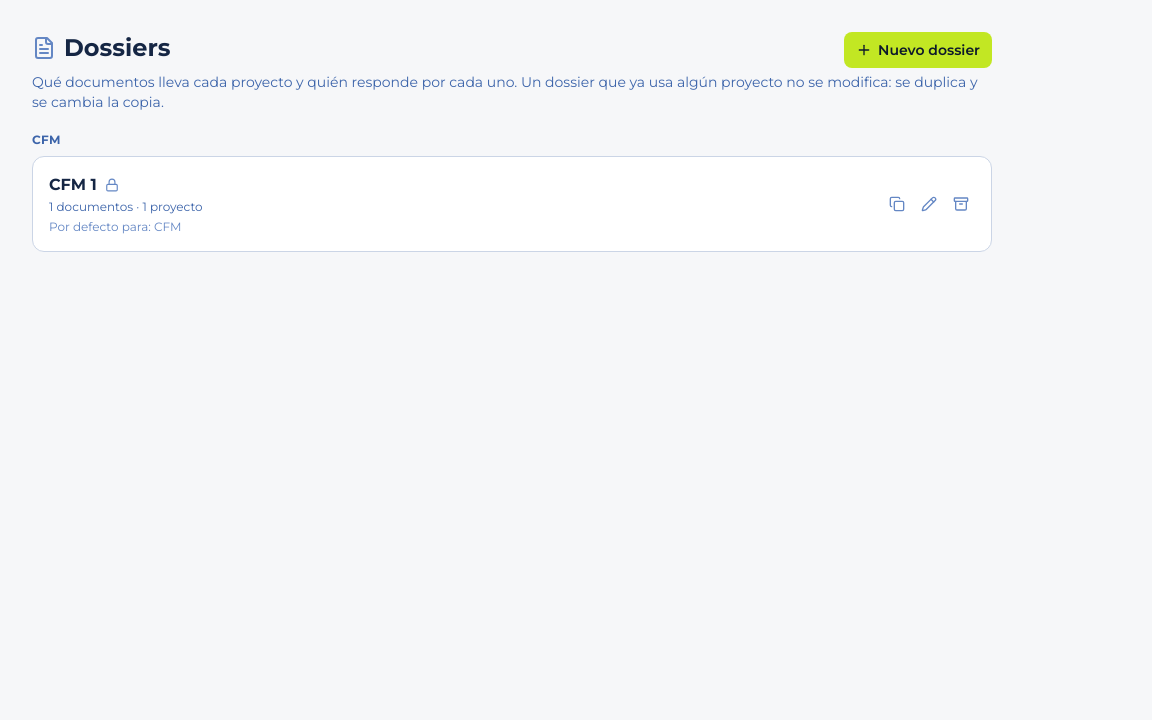
Test: un dossier EN USO tiene la estructura congelada › lo explica y no ofrece tocar los documentos
This screenshot has width=1152, height=720.
Click the button "CFM 1 1 documentos · 1 proyecto Por defecto para: CFM".
click(73, 184)  # box x1=49 y1=173 x2=867 y2=235
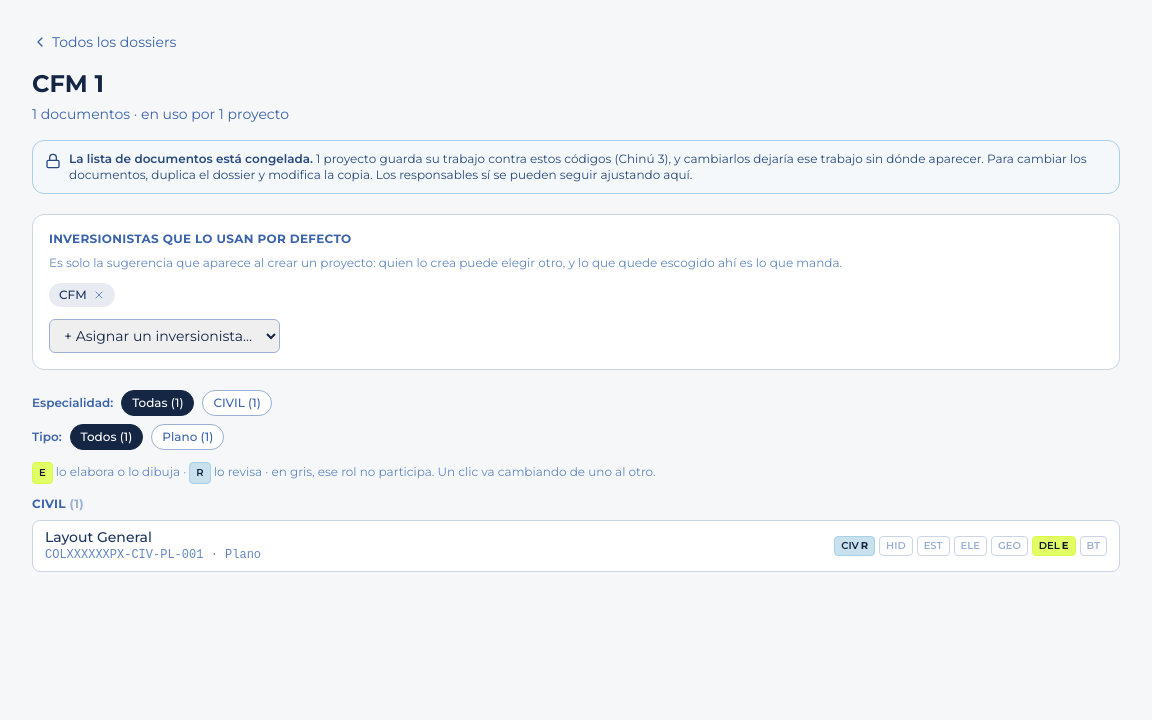
expect the text "La lista de documentos está congelada." is shown: met, box x1=69 y1=151 x2=313 y2=166
